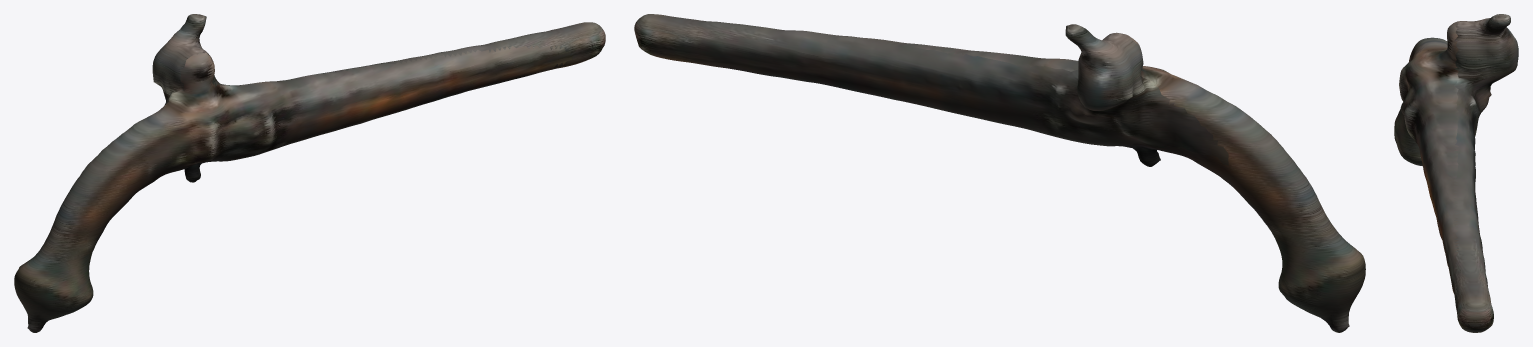
File: kfl-2238.glb
The picture shows the model from 3 angles, left to right: view 1: azimuth 30°, elevation 25°; view 2: azimuth 150°, elevation 25°; view 3: azimuth 270°, elevation 25°; orthographic projection. The views are drawn at different scales.
Parts seen in each view (by area): view 1: geometry_0; view 2: geometry_0; view 3: geometry_0.
Part boxes in pixels (x1,y1,x2,y2): geometry_0: [14, 14, 605, 332]; geometry_0: [634, 14, 1365, 332]; geometry_0: [1394, 14, 1518, 332].
Size of the model in its own units: 0.993 by 0.3823 by 0.1717.
Materials: 1 (1 with a texture image).
